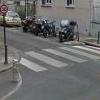Motorcycle: (24, 14, 74, 45)
